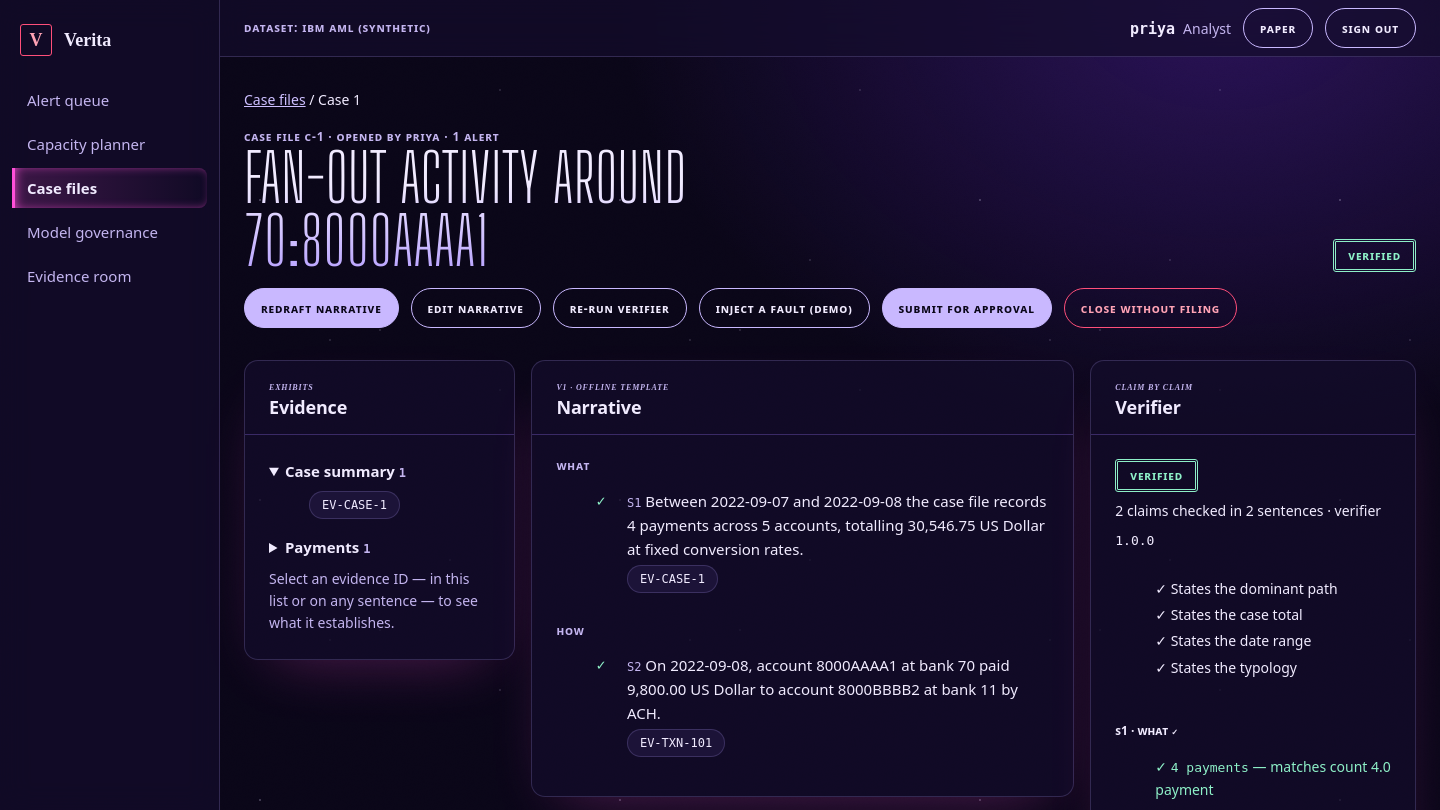
Test: injects a demo fault by editing one amount
Step 1. Click the button "Inject a fault (demo)" → (784, 308), box [699, 288, 870, 328]
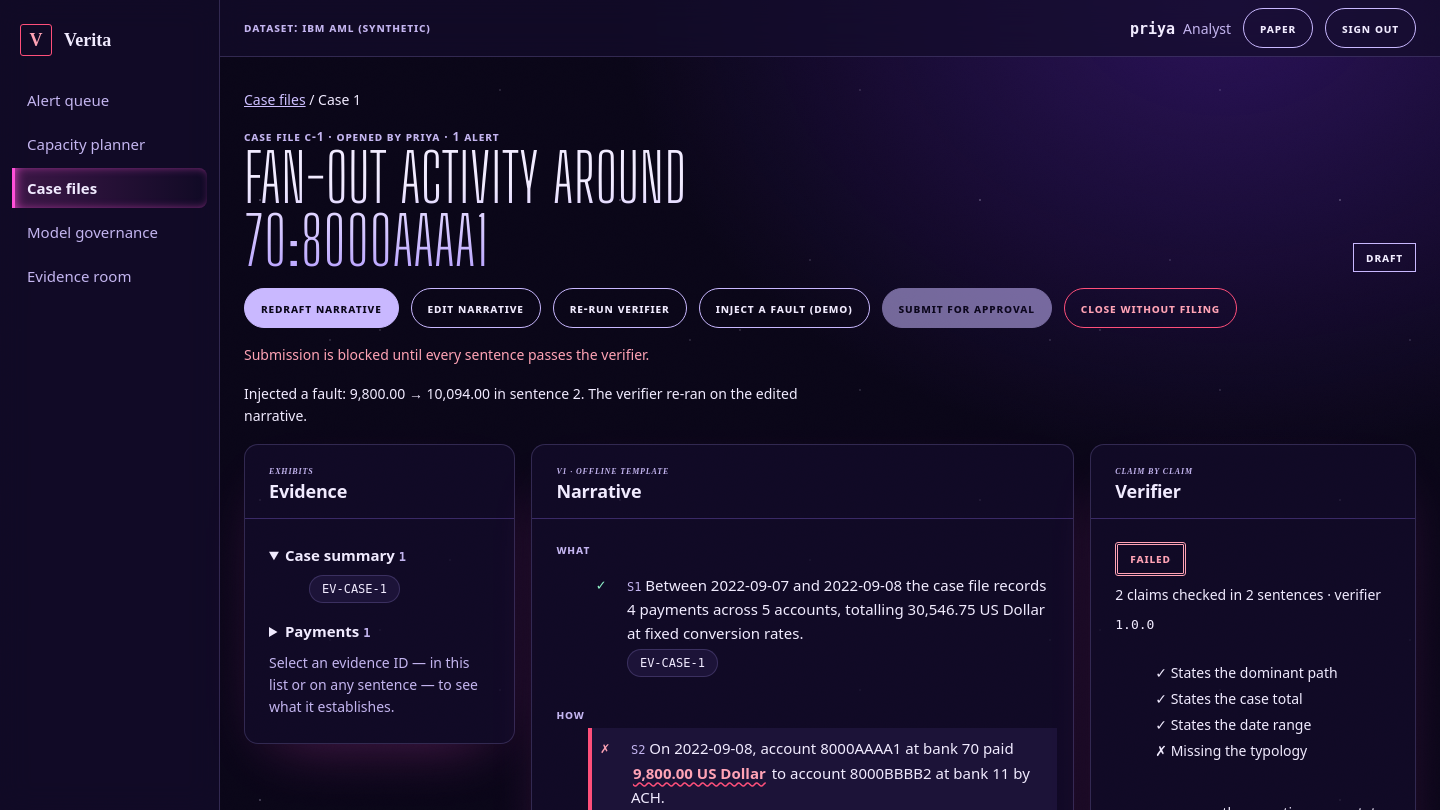
Result: the text "Injected a fault: 9,800.00 → 10,094.00 in sentence 2" is shown at [244, 383, 804, 428]
